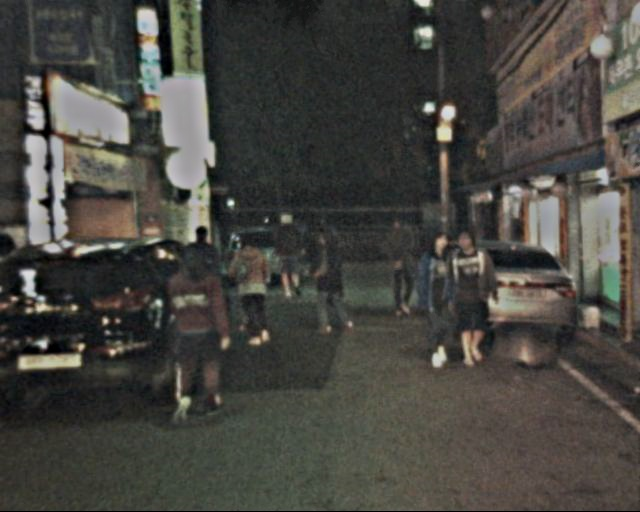person: (163, 244, 230, 410), (411, 232, 468, 367), (444, 232, 498, 364), (179, 223, 227, 337), (308, 231, 353, 337), (230, 239, 274, 347), (381, 220, 420, 316), (270, 213, 308, 299)
